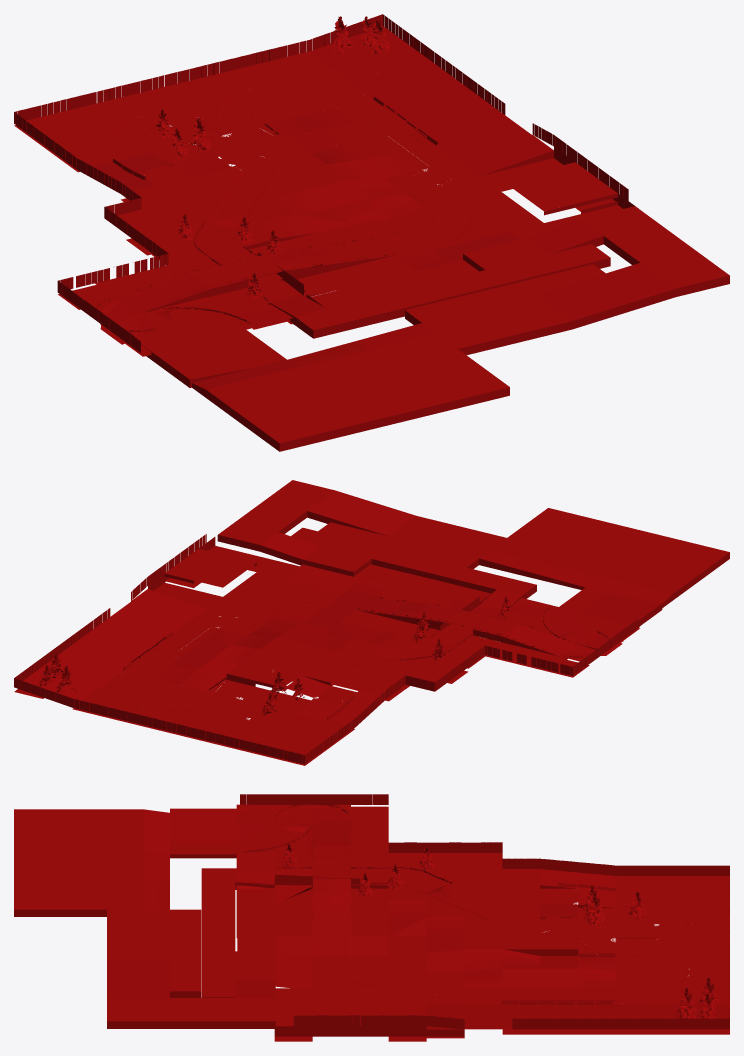
The picture shows the model from 3 angles, top to bottom: view 1: azimuth 30°, elevation 25°; view 2: azimuth 150°, elevation 25°; view 3: azimuth 270°, elevation 25°; orthographic projection. The views are drawn at different scales.
Visible parts, largest first — view 1: map2.003, map4.001_Cube.001, map2.001, map2.004; view 2: map2.003, map4.001_Cube.001, map2.001, map2.004; view 3: map2.003, map4.001_Cube.001, map2.001, map2.004.
Part boxes in pixels (bbox=[...]): map2.003: bbox=[57, 119, 638, 356]; map4.001_Cube.001: bbox=[113, 206, 729, 451]; map2.001: bbox=[14, 14, 510, 208]; map2.004: bbox=[58, 181, 478, 352]; map2.003: bbox=[115, 534, 639, 701]; map4.001_Cube.001: bbox=[217, 480, 729, 649]; map2.001: bbox=[14, 608, 404, 765]; map2.004: bbox=[233, 564, 638, 690]; map2.003: bbox=[236, 794, 529, 1041]; map4.001_Cube.001: bbox=[14, 808, 312, 1028]; map2.001: bbox=[493, 858, 729, 1034]; map2.004: bbox=[236, 794, 502, 990].
Size of the model in its own units: 908 by 83.73 by 1221.
